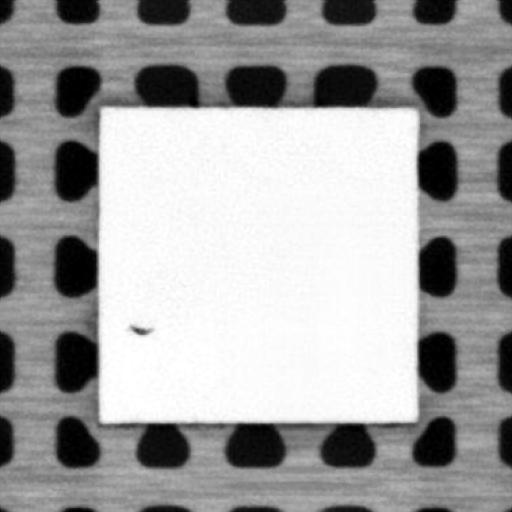DIE_INK: (126, 319, 152, 336)
